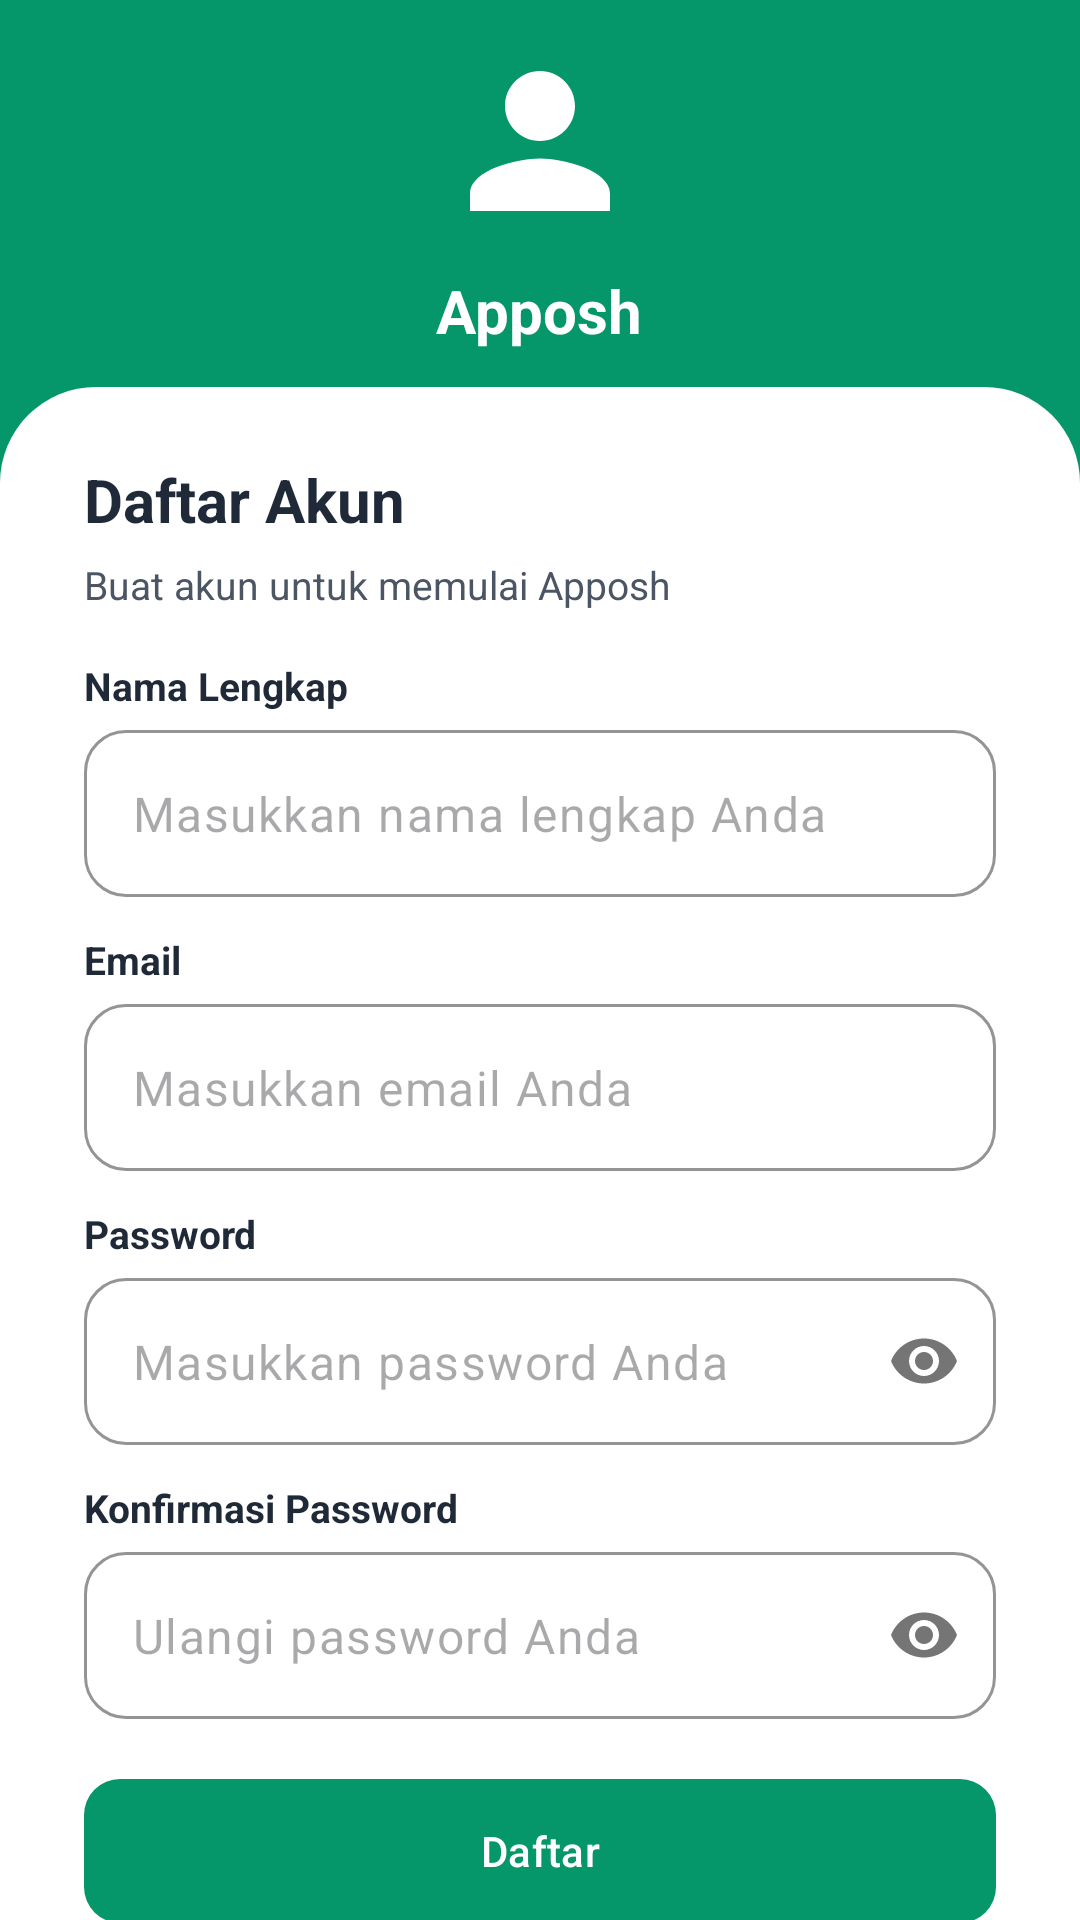

Icon bounding boxes for this 1080w x 1920h phone screenshot, format (x1, y1, x2, y2):
auth hero: (470, 71, 610, 211)
